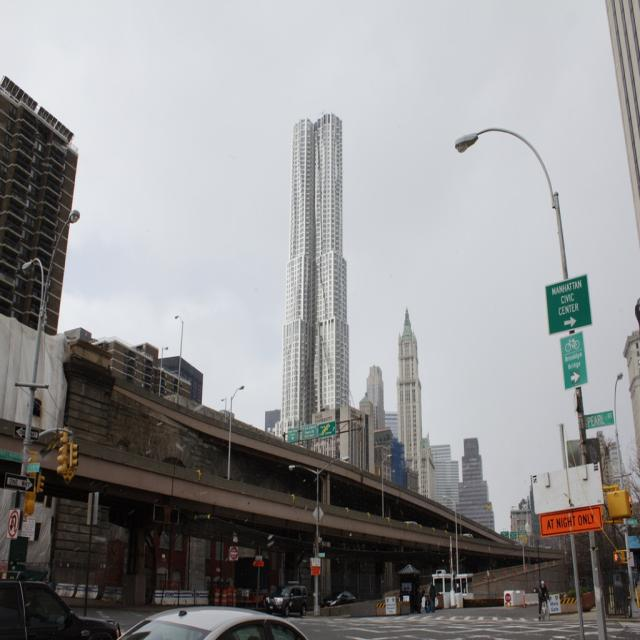car: (0, 569, 119, 638), (115, 605, 309, 638), (260, 576, 316, 613), (324, 585, 359, 599)
